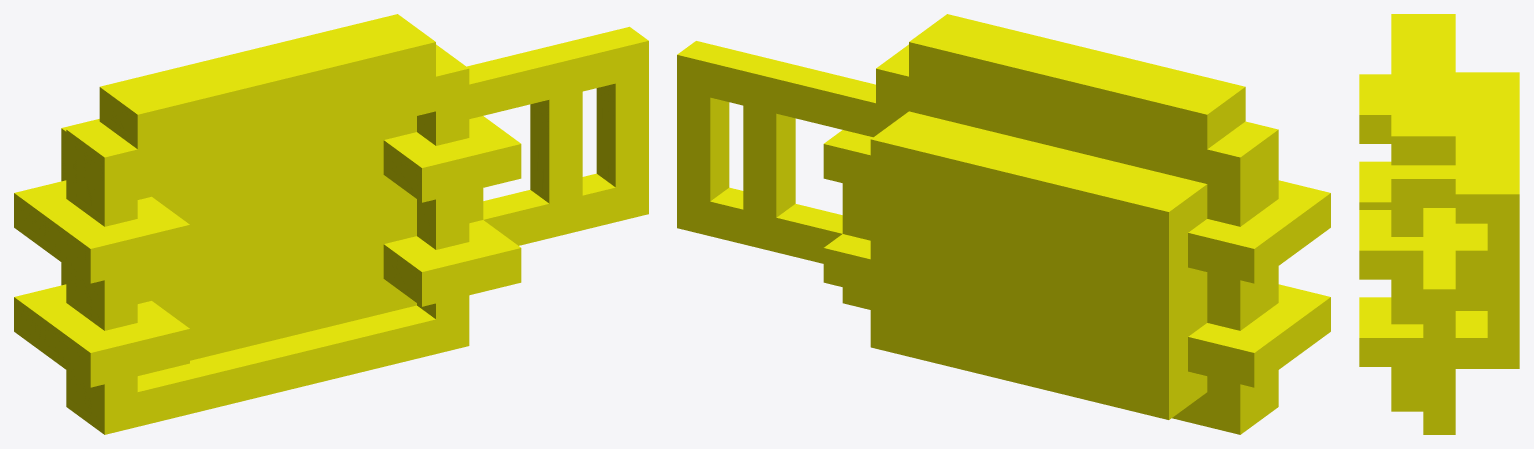
The picture shows the model from 3 angles, left to right: view 1: azimuth 30°, elevation 25°; view 2: azimuth 150°, elevation 25°; view 3: azimuth 270°, elevation 25°; orthographic projection. The views are drawn at different scales.
Visible parts, largest first — view 1: Advertising_7; view 2: Advertising_7; view 3: Advertising_7.
Part boxes in pixels (x1,y1,x2,y2): Advertising_7: [14, 14, 648, 434]; Advertising_7: [677, 14, 1330, 434]; Advertising_7: [1359, 14, 1519, 434].
Size of the model in its own units: 1.8 by 0.9 by 0.5.
Materials: 1 (1 with a texture image).
